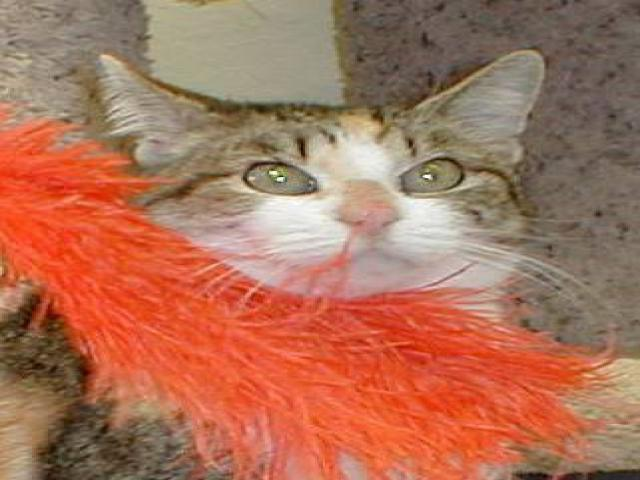cat: (23, 50, 622, 472)
